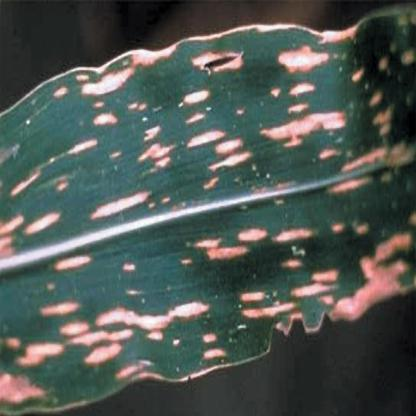corn leaf blight: (1, 20, 416, 405)
